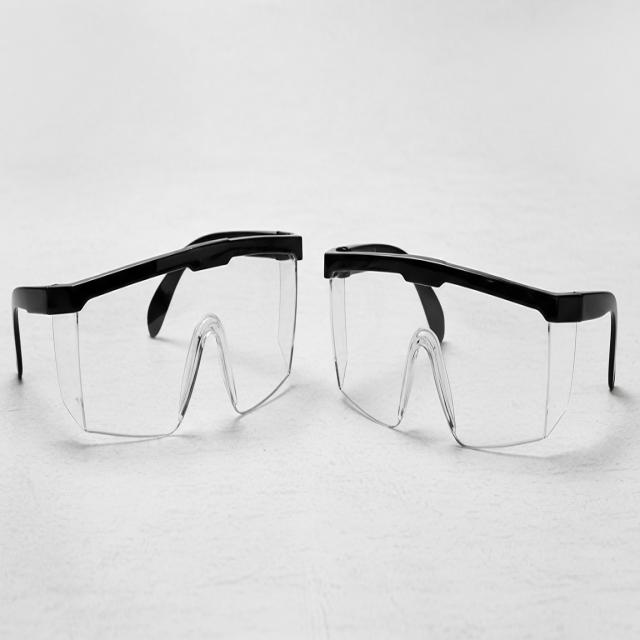oculos-epi: (324, 242, 617, 448), (12, 231, 302, 437)
